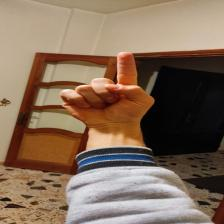one: (56, 52, 156, 125)
